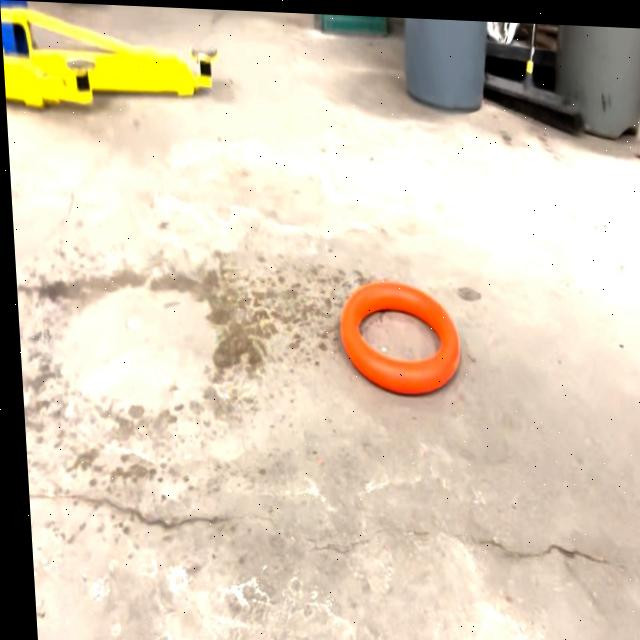note: (334, 275, 460, 399)
